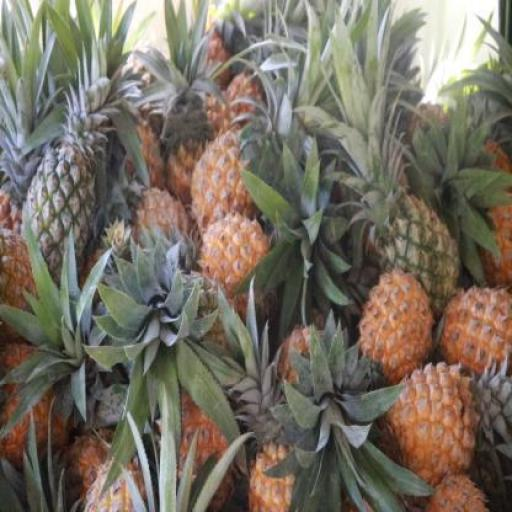Pineapple - v8 v1: (390, 366, 476, 489), (362, 274, 439, 389), (189, 134, 260, 236), (196, 225, 269, 314), (443, 286, 512, 380)
